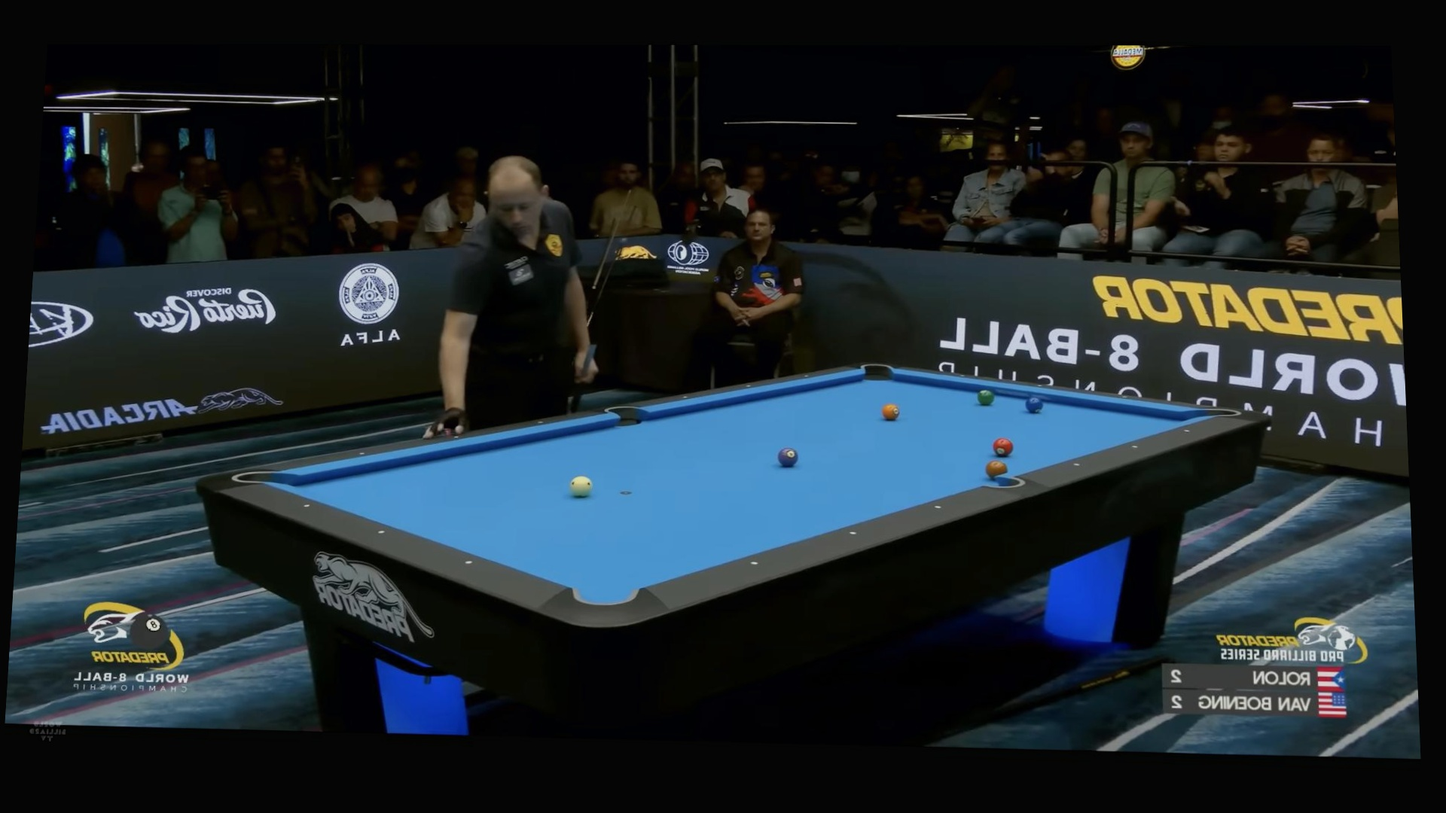Black: (932, 501, 945, 513), (748, 558, 761, 569), (847, 527, 860, 538), (357, 448, 367, 458), (1130, 443, 1141, 452), (464, 558, 474, 567), (377, 528, 387, 537), (451, 431, 461, 440), (1071, 460, 1081, 469), (1182, 426, 1192, 435), (302, 501, 311, 510), (536, 419, 545, 428), (1120, 393, 1129, 401), (1035, 381, 1043, 389), (958, 372, 966, 379), (682, 394, 688, 400), (746, 383, 752, 388), (804, 373, 810, 378)
Cue: (778, 447, 799, 467), (985, 460, 1007, 479), (992, 437, 1013, 456), (881, 403, 900, 420), (1025, 397, 1043, 413), (977, 390, 995, 405)
Stripe: (570, 475, 593, 498)
